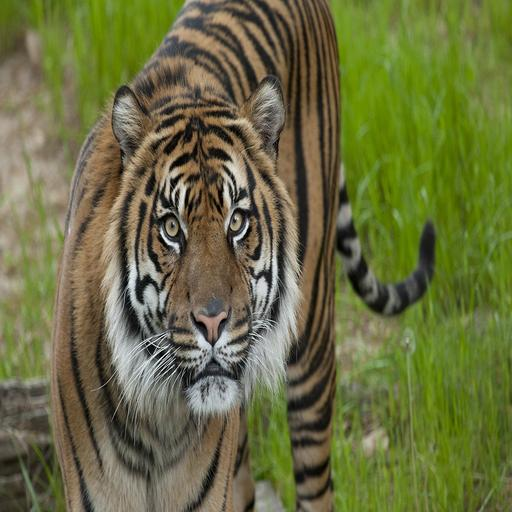Tiger: (42, 0, 446, 512)
